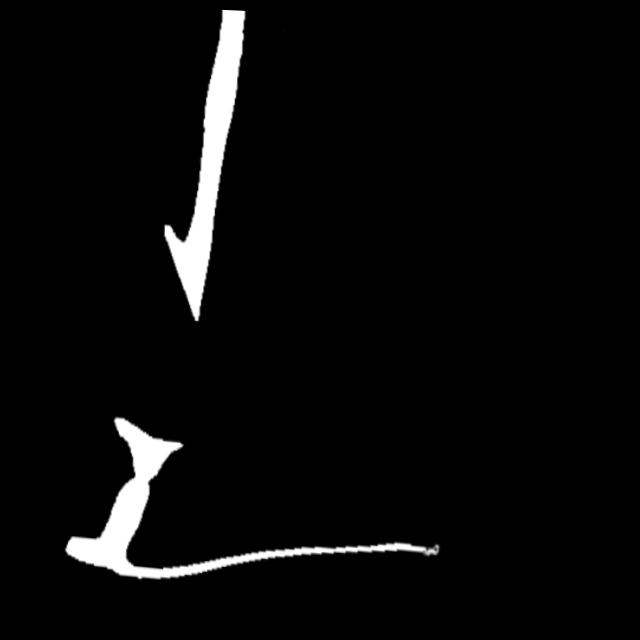stp: (413, 537, 438, 557)
